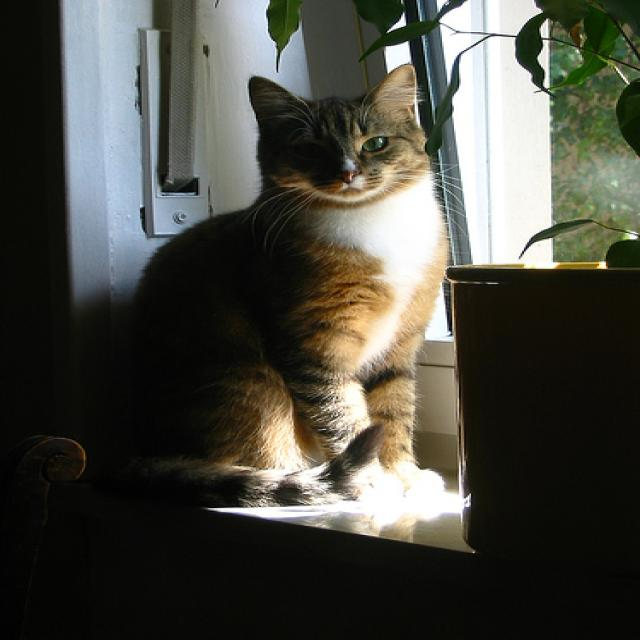cat: (124, 63, 460, 509)
